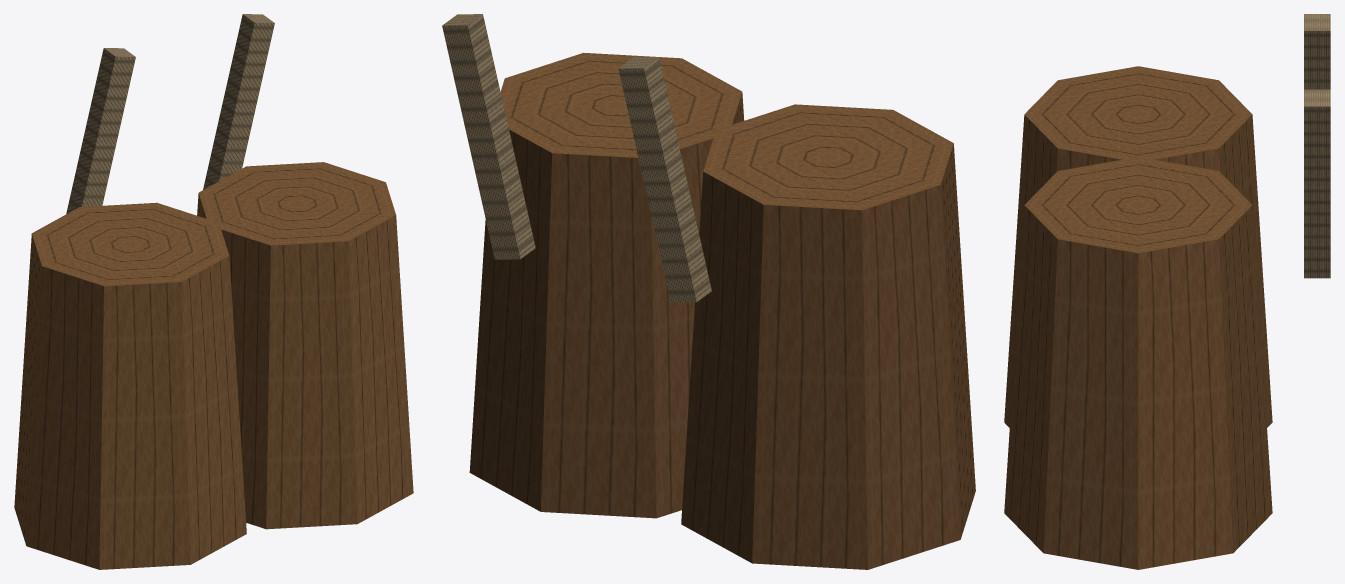
Rendered from military-FLAME_SEED-1-lod0.glb.
The picture shows the model from 3 angles, left to right: view 1: azimuth 30°, elevation 25°; view 2: azimuth 150°, elevation 25°; view 3: azimuth 270°, elevation 25°; orthographic projection. The views are drawn at different scales.
Size of the model in its own units: 0.27 by 0.2718 by 0.1825.
1 material, 1 textured.
